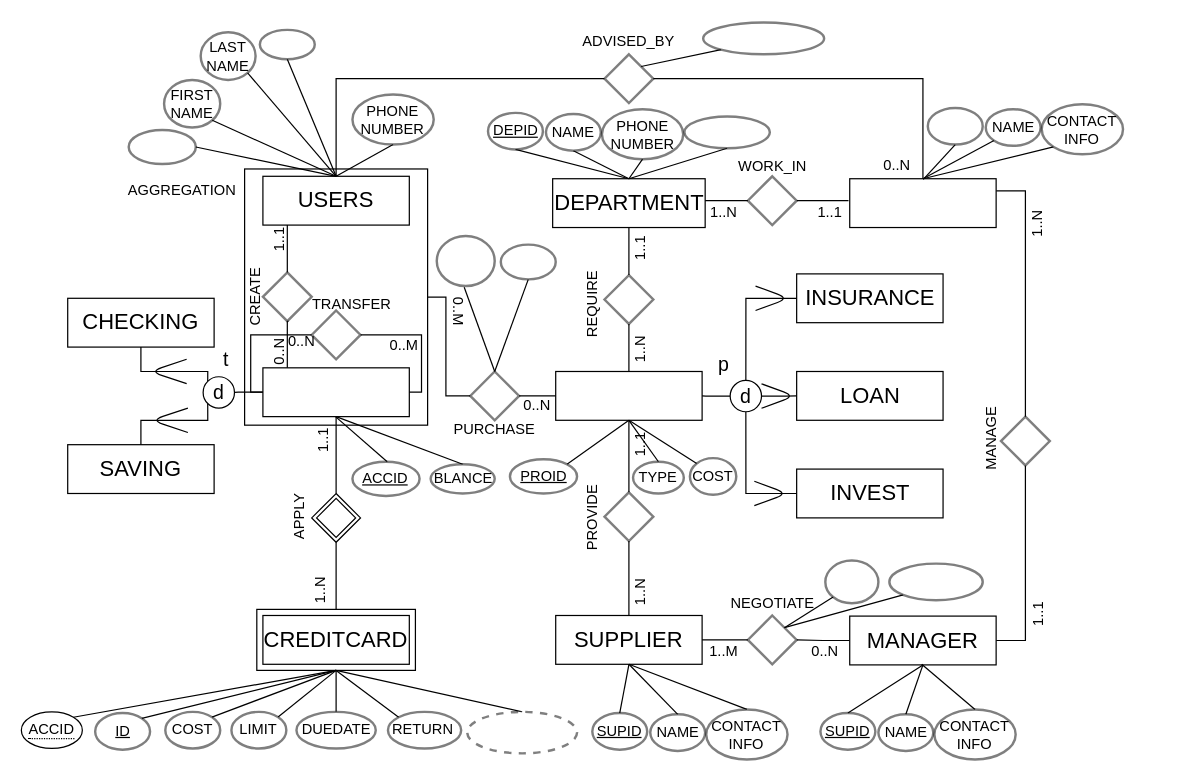
This 1203x781 diagram has some shape labels left out. The shapes that lost their labels are listed below. From the top down, each one's box as (x1, y1, x2, y2) in pixels, then its label:
(258, 28, 315, 60): EMAIL
(701, 21, 825, 55): PROFEATURE
(683, 115, 770, 149): ADDRESS
(926, 106, 983, 145): EMPID
(127, 128, 196, 165): USERID
(849, 178, 996, 228): EMPLOYEE
(435, 234, 495, 287): UNIT PRICE
(499, 243, 556, 280): UNIT NUM
(262, 367, 409, 417): ACCOUNT
(554, 370, 702, 420): PRODUCT
(824, 559, 879, 604): UNIT COST
(888, 562, 983, 601): UNIT AMOUNT
(465, 710, 578, 754): EXISTMONEY
